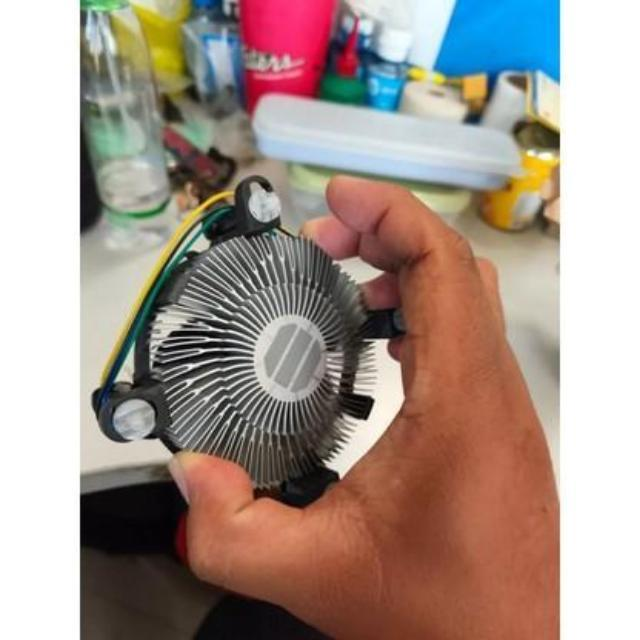CPU_Fan: (83, 183, 420, 526)
